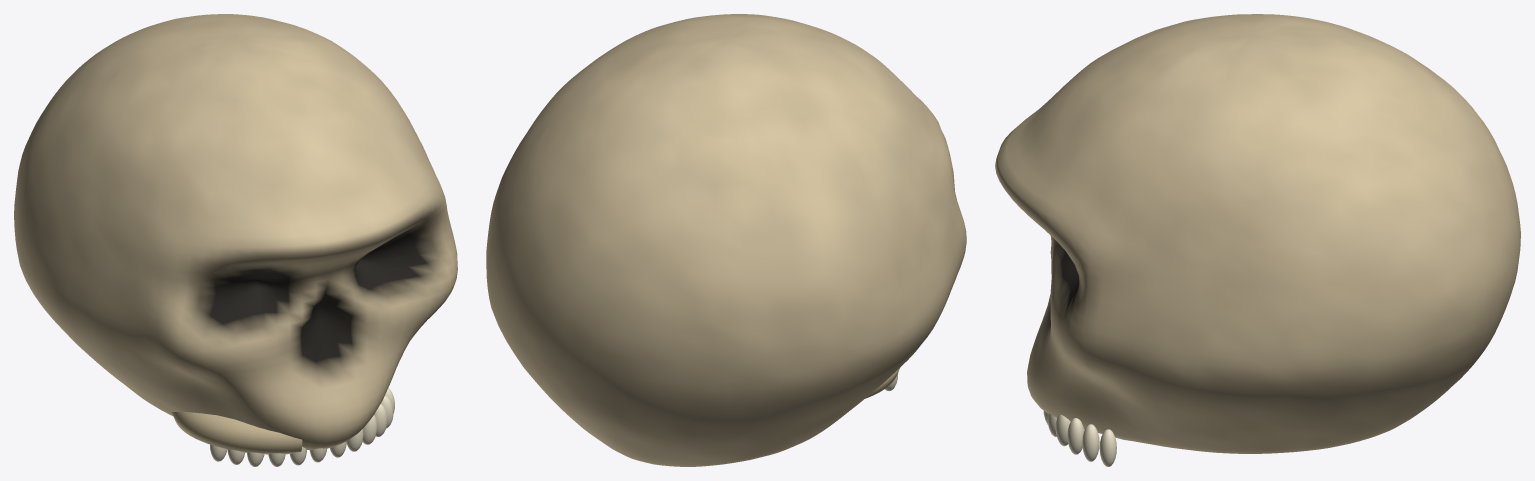
The model's file is skull.glb.
3 views of the same model, side by side, from view 1: azimuth 30°, elevation 25°; view 2: azimuth 150°, elevation 25°; view 3: azimuth 270°, elevation 25° (orthographic). The views are drawn at different scales.
Visible parts, largest first — view 1: cranium, dental-arch, teeth; view 2: cranium; view 3: cranium, teeth.
Boxes of the visible parts, x1=… form: cranium: x1=14, y1=14, x2=457, y2=450; dental-arch: x1=172, y1=411, x2=302, y2=454; teeth: x1=210, y1=388, x2=394, y2=466; cranium: x1=486, y1=14, x2=966, y2=466; cranium: x1=995, y1=14, x2=1520, y2=453; teeth: x1=1043, y1=411, x2=1116, y2=466.
Bounding box in the file's own units: 180 × 170 × 210.
